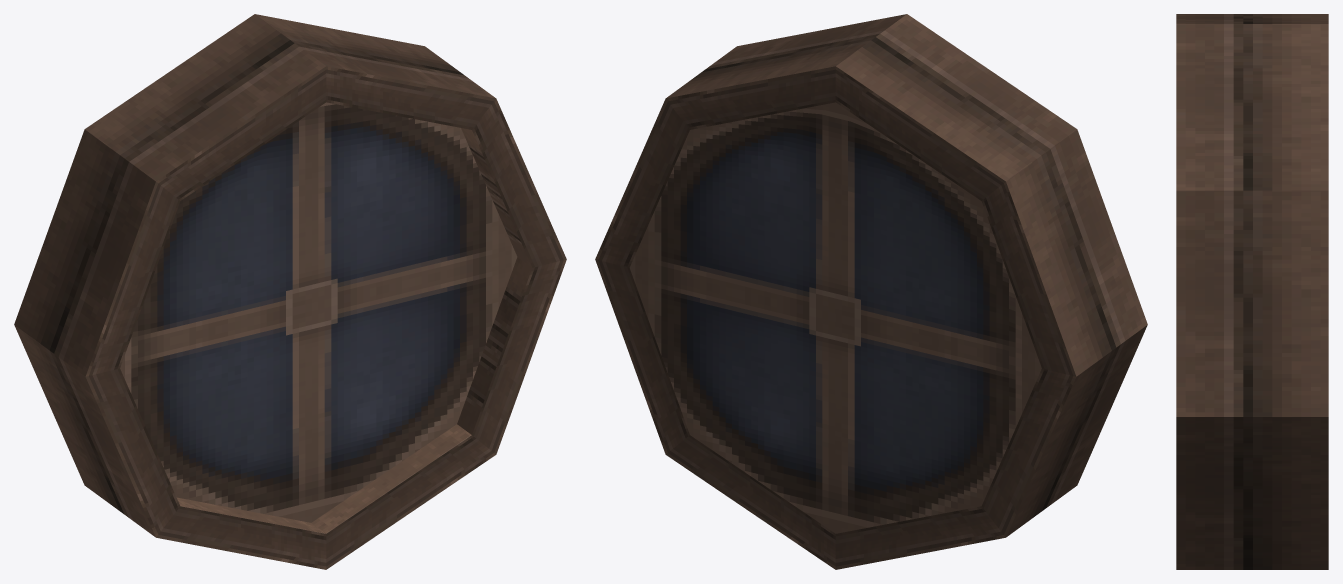
The model's file is window_round.glb.
3 views of the same model, side by side, from view 1: azimuth 30°, elevation 25°; view 2: azimuth 150°, elevation 25°; view 3: azimuth 270°, elevation 25° (orthographic). The views are drawn at different scales.
Parts seen in each view (by area): view 1: window_round; view 2: window_round; view 3: window_round.
Part boxes in pixels (bbox=[...]): window_round: bbox=[14, 14, 566, 569]; window_round: bbox=[595, 14, 1147, 569]; window_round: bbox=[1176, 14, 1328, 569].
Size of the model in its own units: 1.17 by 1.17 by 0.3.
1 material, 1 textured.
